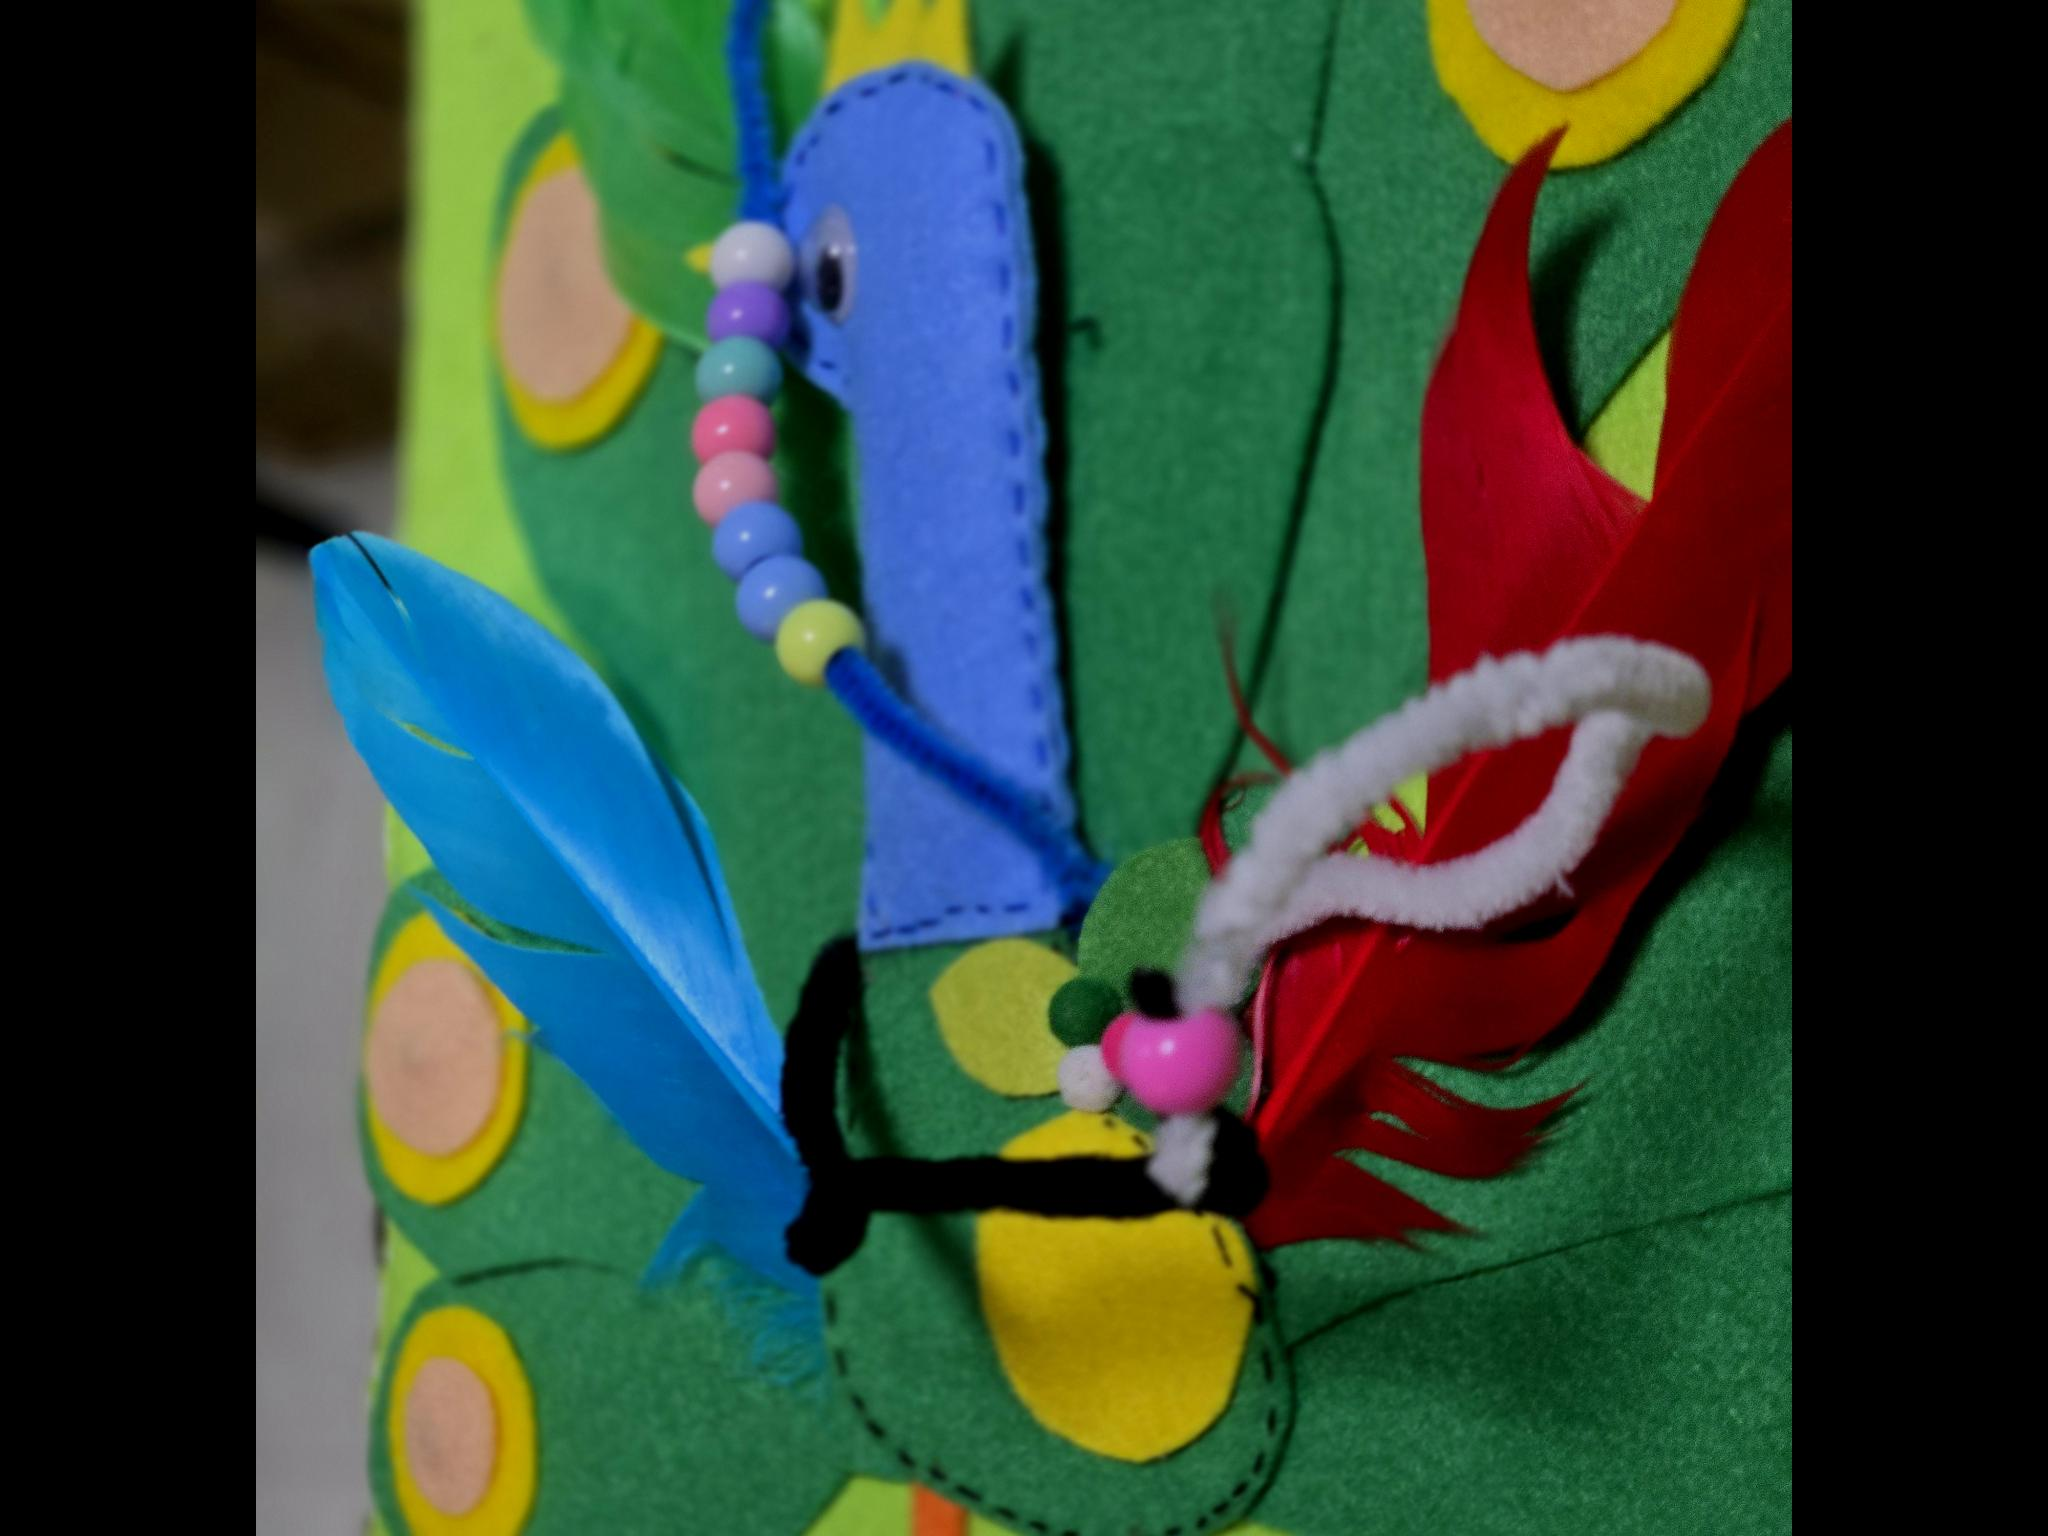bead: (1109, 994, 1261, 1126), (722, 553, 837, 647), (771, 599, 869, 692), (664, 395, 782, 471), (708, 499, 808, 586), (684, 450, 795, 521), (692, 339, 785, 418), (703, 215, 801, 281), (703, 289, 790, 344)
